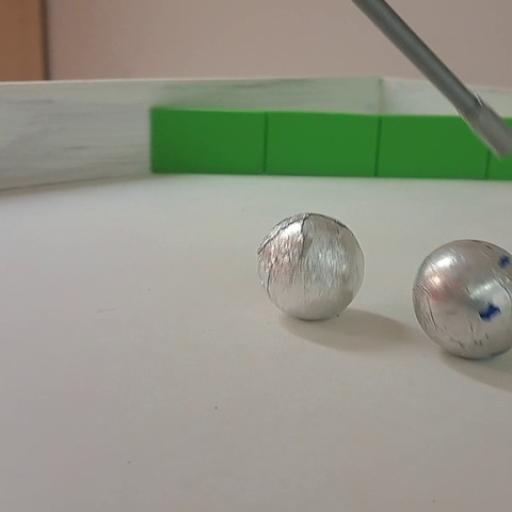alive: (410, 240, 511, 358), (257, 212, 364, 319)
